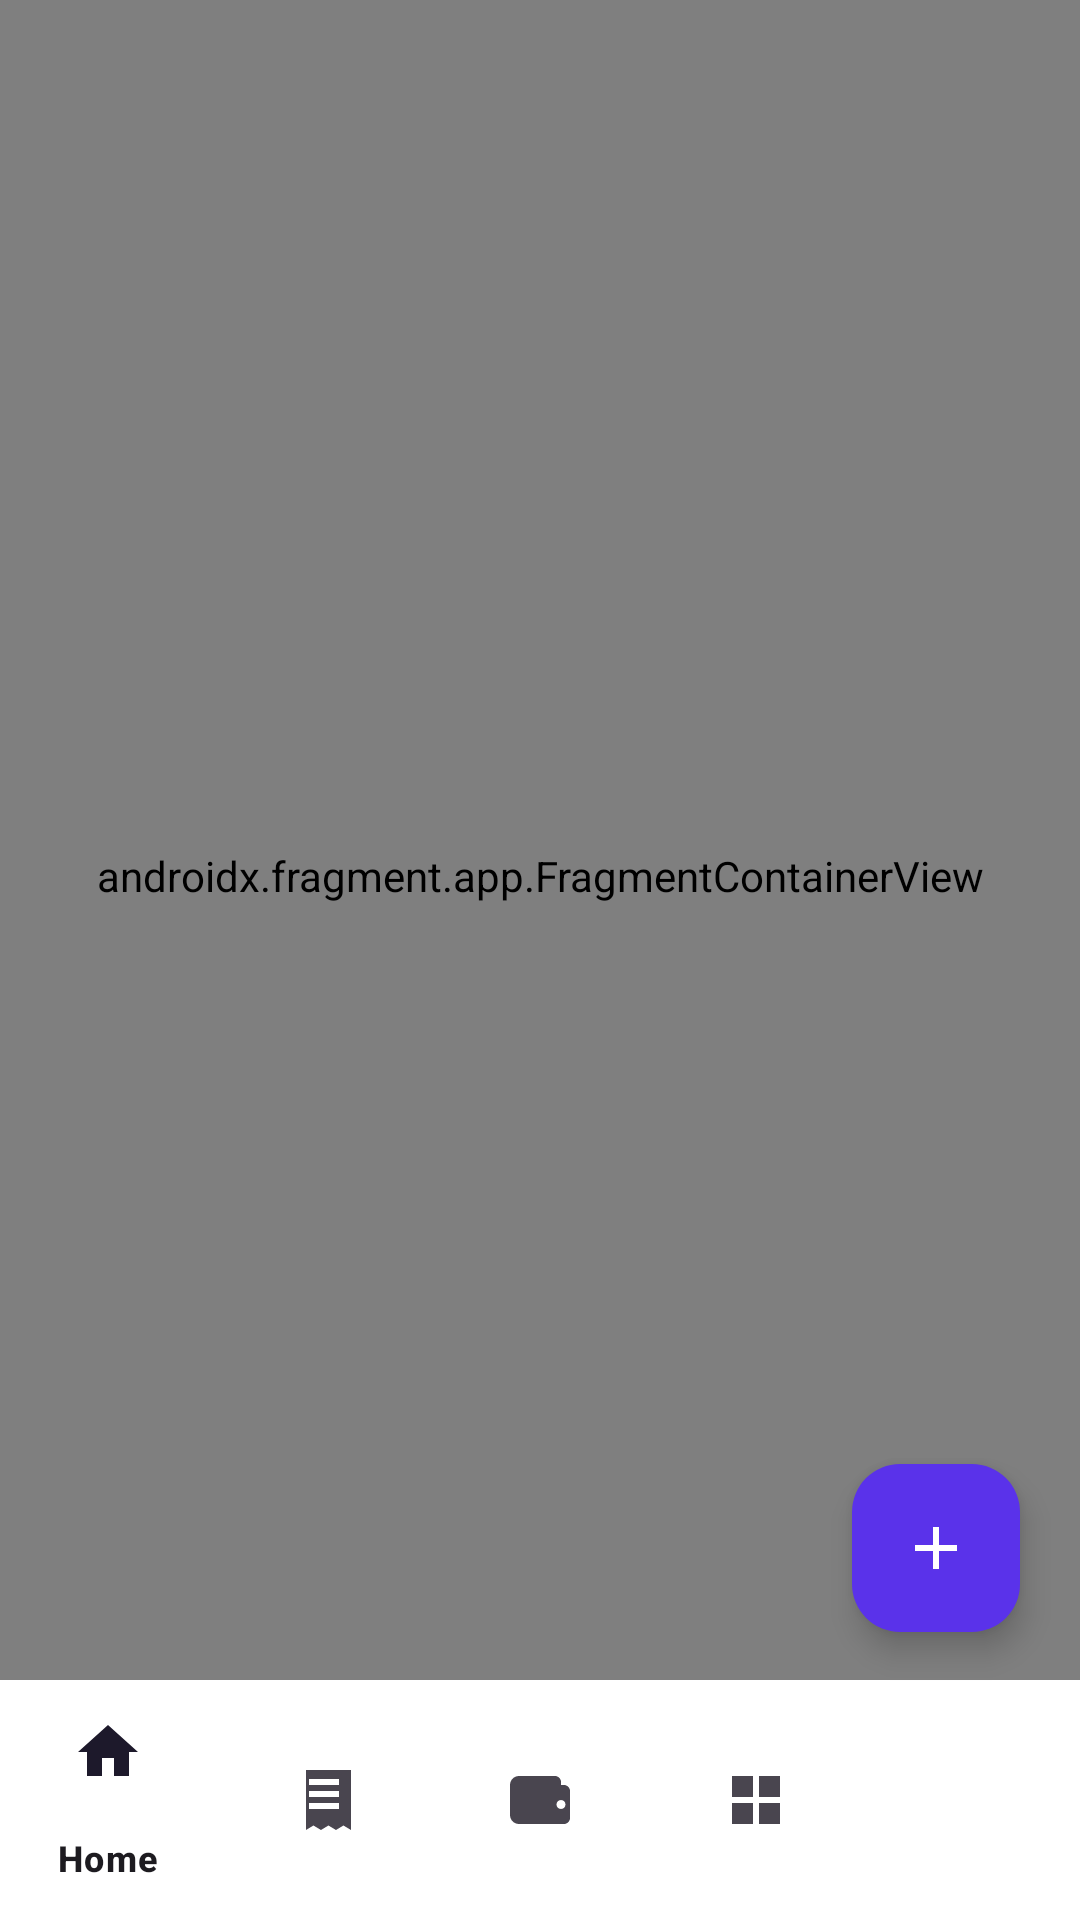

Icon click points for this 1080px×1920px phone screenshot, format (x,y):
Add Transaction: (936,1548)
